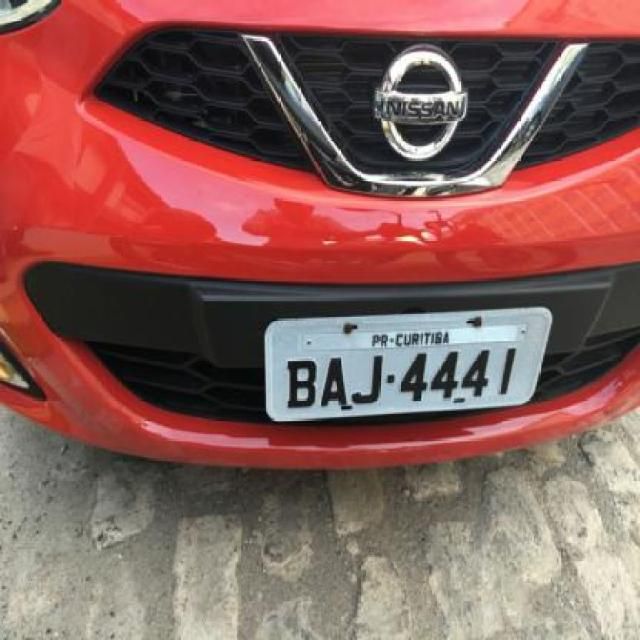old_plate: (257, 301, 559, 430)
